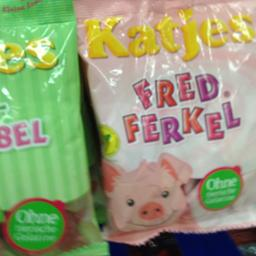candy: (74, 0, 255, 240)
